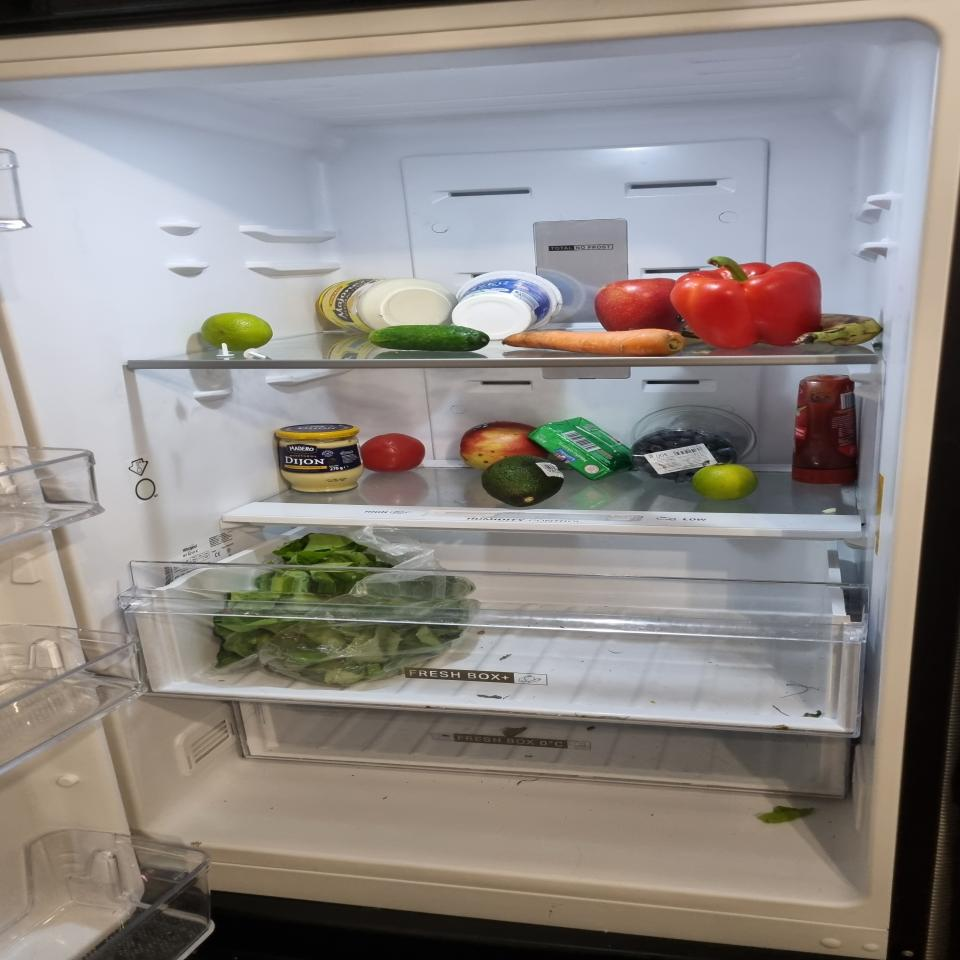Aguacate: (479, 458, 561, 506)
Lechuga/Endivia: (220, 538, 467, 692)
Mantequilla: (531, 418, 628, 480)
Manzana: (595, 278, 676, 332), (464, 423, 539, 466)
Pepino: (372, 323, 499, 354)
Plátano: (804, 314, 878, 349)
Tomate: (361, 433, 424, 471)
Yogur: (451, 270, 564, 340)
Zanahoria: (502, 329, 686, 357)
bell pepper: (672, 256, 825, 348)
blueberries: (628, 423, 734, 475)
ketchup: (797, 378, 863, 482)
lime: (204, 312, 272, 352), (695, 466, 757, 499)
mayonnaise: (316, 278, 454, 333)
mustard: (272, 422, 365, 494)
